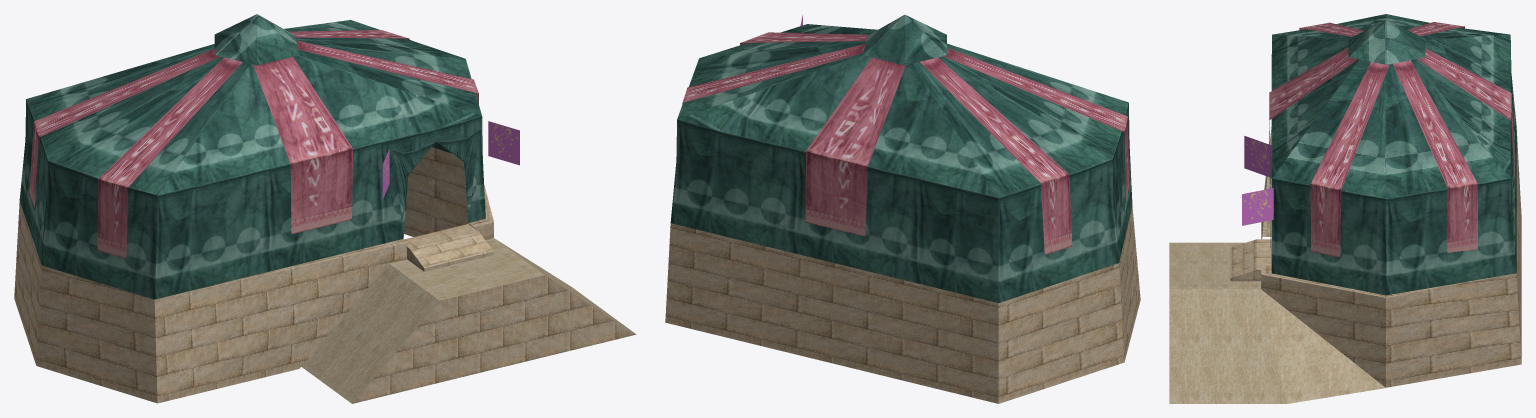
The model's file is ply_nboo_idesigner_tent_s01_r0_mesh_l1.fbx.
The picture shows the model from 3 angles, left to right: view 1: azimuth 30°, elevation 25°; view 2: azimuth 150°, elevation 25°; view 3: azimuth 270°, elevation 25°; orthographic projection. The views are drawn at different scales.
Parts seen in each view (by area): view 1: mesh_node; view 2: mesh_node; view 3: mesh_node.
Boxes of the visible parts, box(x1,y1,x2,y2) form: mesh_node: box(14, 14, 636, 403); mesh_node: box(665, 14, 1140, 403); mesh_node: box(1169, 14, 1521, 403).
Size of the model in its own units: 17.22 by 10.19 by 12.03.
